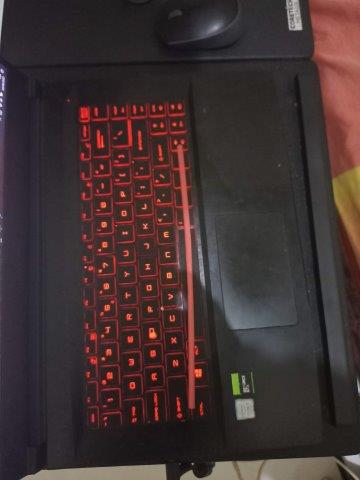sedotan: (177, 145, 195, 409)
